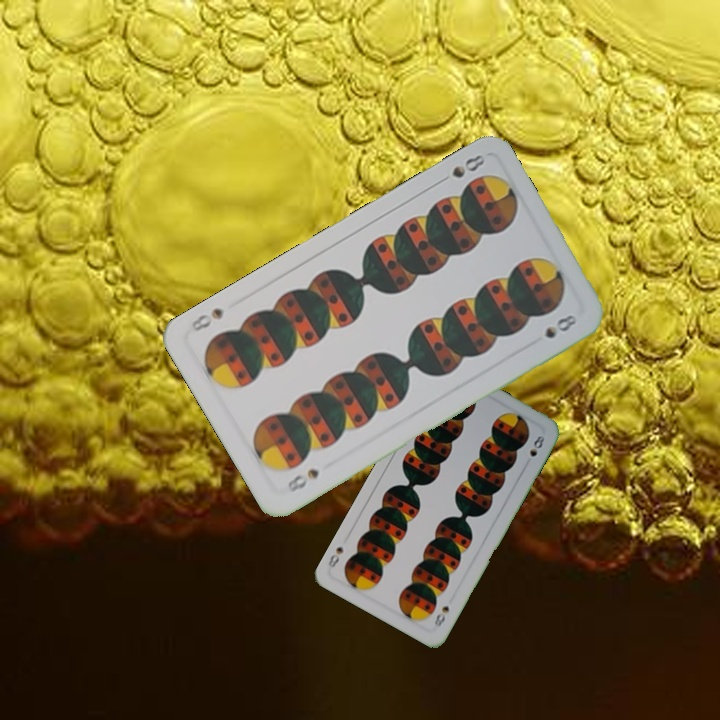S8: (433, 150, 488, 187), (283, 464, 322, 495), (430, 602, 452, 632)
